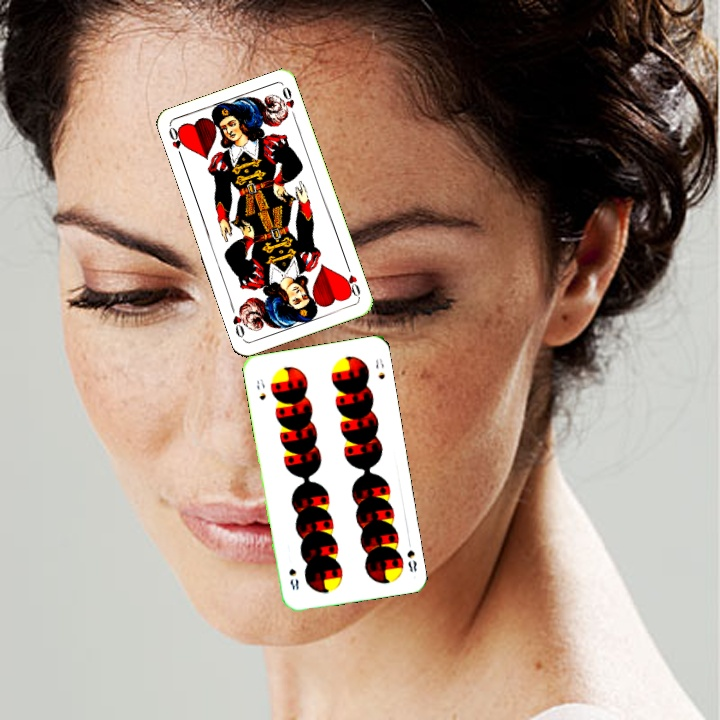HO: (339, 261, 363, 300), (165, 123, 186, 163)
S8: (403, 536, 419, 575), (252, 375, 268, 403)
